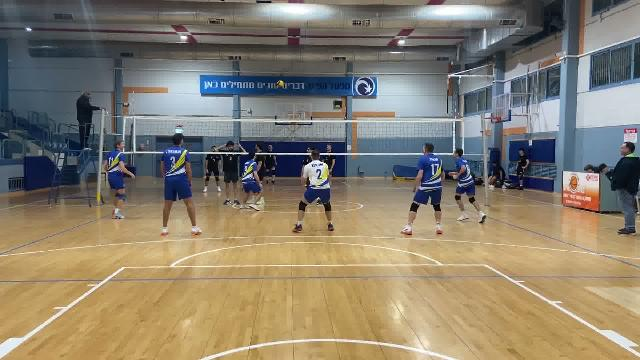ball: (275, 79, 286, 89)
